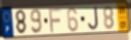6: (66, 7, 79, 34)
8: (15, 9, 28, 36), (103, 5, 116, 31)
9: (30, 8, 44, 34)
F: (48, 8, 63, 34)
J: (87, 6, 100, 31)
